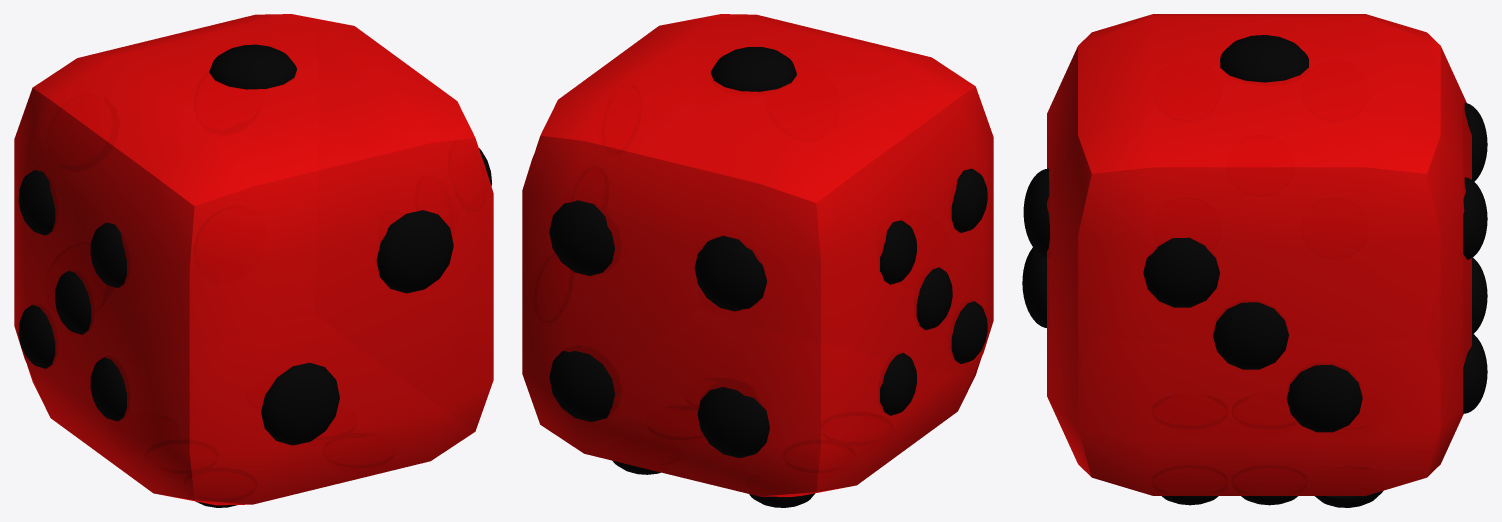
Rendered from Dice.fbx.
3 views of the same model, side by side, from view 1: azimuth 30°, elevation 25°; view 2: azimuth 150°, elevation 25°; view 3: azimuth 270°, elevation 25° (orthographic). The views are drawn at different scales.
Visible parts, largest first — view 1: Dice; view 2: Dice; view 3: Dice.
Part boxes in pixels (x1,y1,x2,y2): Dice: (14, 14, 493, 507); Dice: (522, 14, 993, 507); Dice: (1022, 14, 1487, 507).
Bounding box in the file's own units: 238 × 243 × 241.
